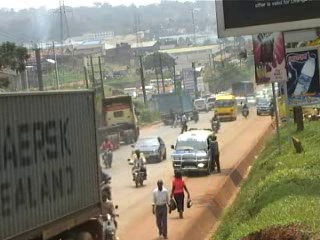Car: (131, 133, 168, 162), (246, 96, 254, 107)
Motorcycle: (99, 192, 124, 235), (126, 151, 152, 187), (97, 168, 113, 205), (99, 137, 116, 170), (208, 114, 223, 135), (188, 104, 200, 125), (239, 102, 252, 119)
